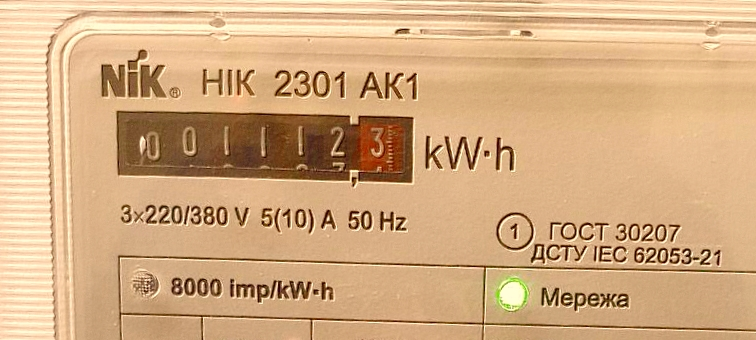0: (177, 121, 201, 161), (141, 127, 165, 163)
1: (216, 120, 236, 159), (254, 121, 270, 160), (293, 121, 308, 159)
2: (326, 123, 349, 160)
3: (367, 124, 386, 160)
screen: (106, 98, 423, 195)
